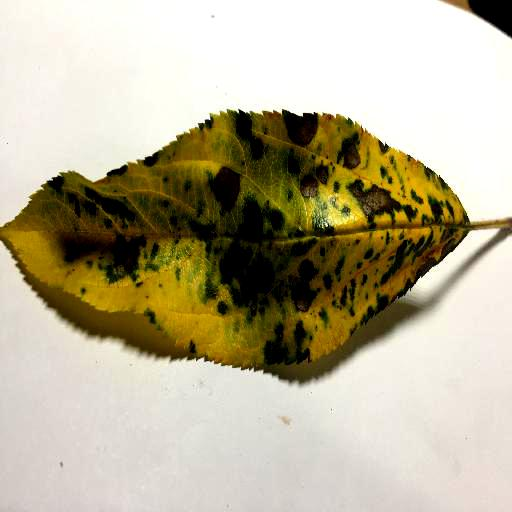Brown_Spot: (216, 244, 289, 297), (402, 241, 450, 293), (69, 235, 145, 255), (273, 116, 320, 143), (349, 189, 393, 217), (208, 177, 242, 207), (228, 115, 256, 148), (337, 141, 360, 168), (300, 177, 323, 196)
